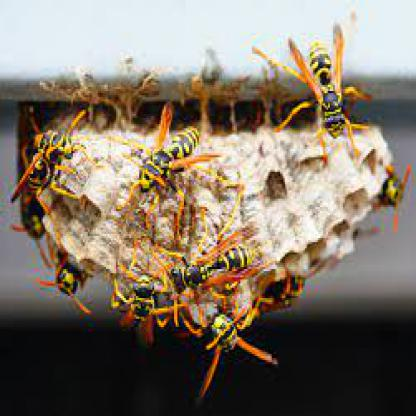other: (257, 34, 378, 166), (118, 116, 212, 220)
